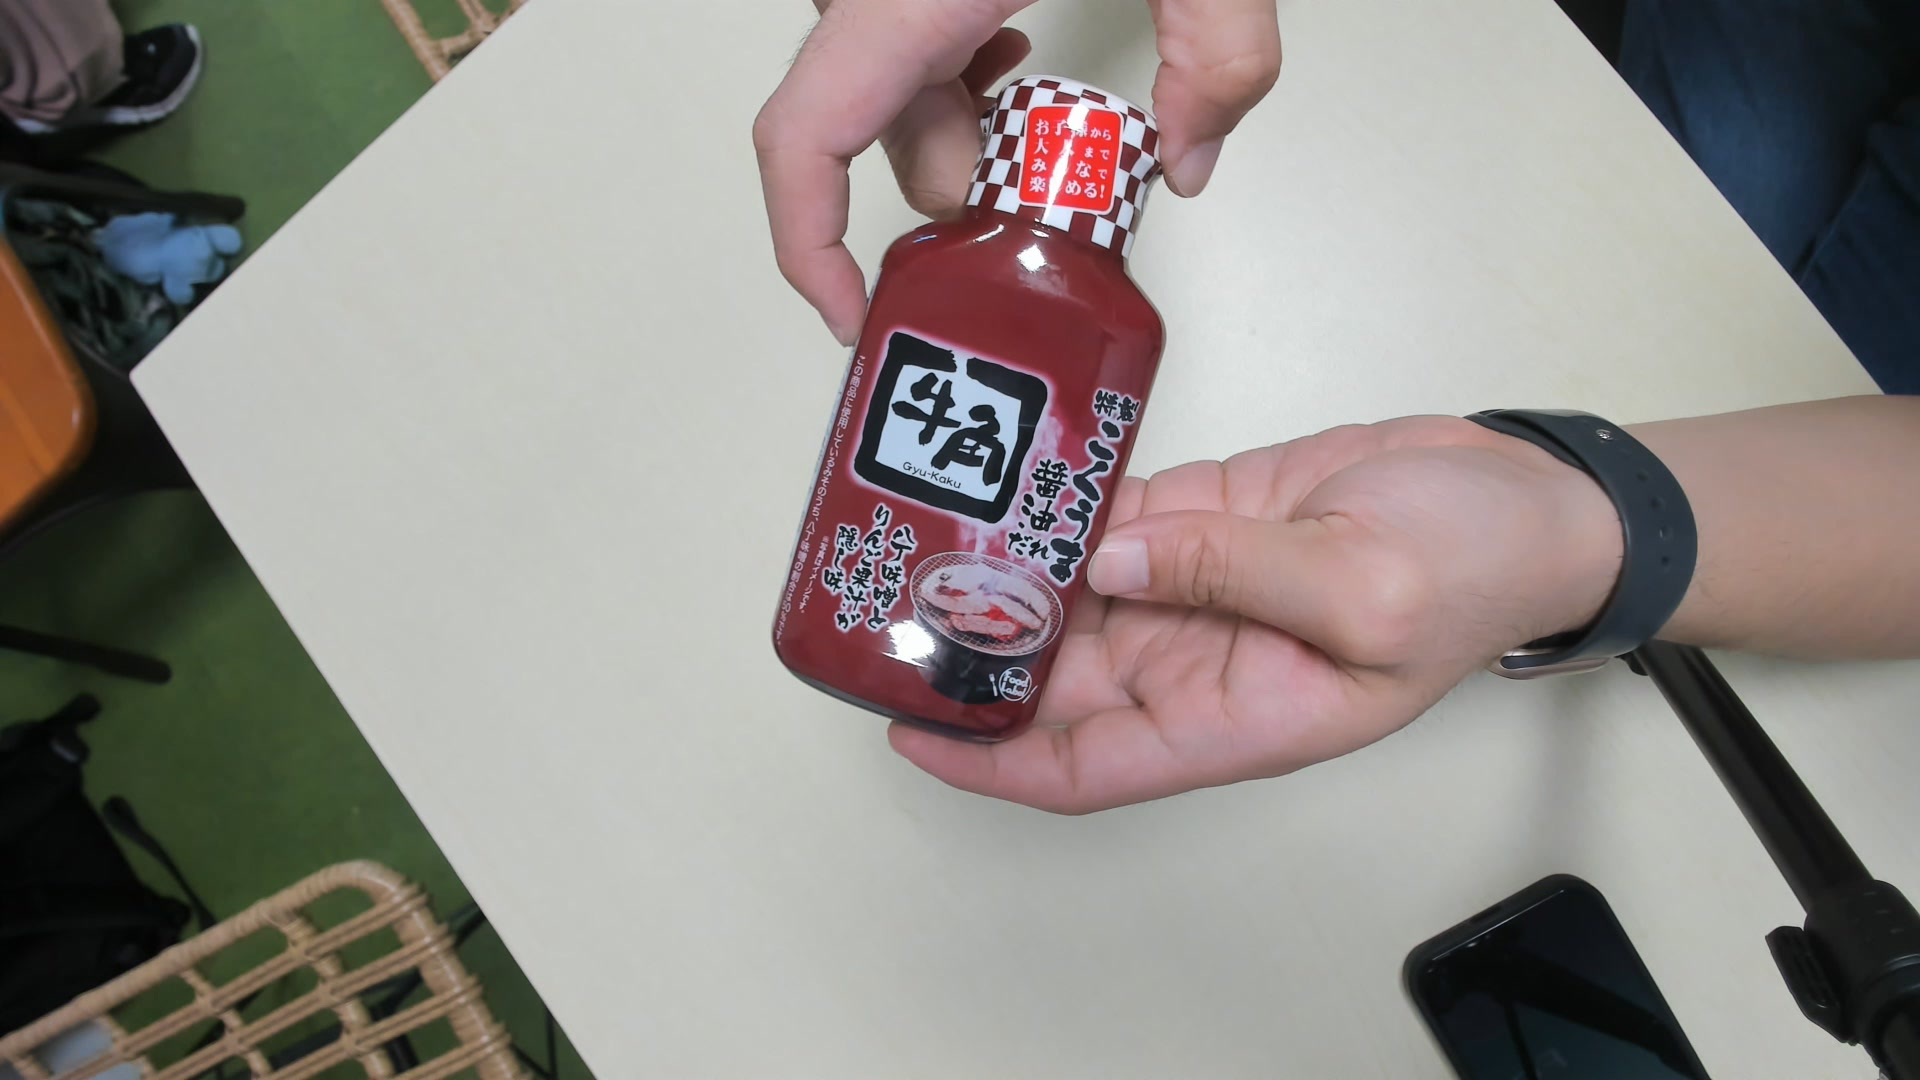OtherSauceDressing_200-299g_NonHalal_NonHealthy: (773, 70, 1166, 744)
